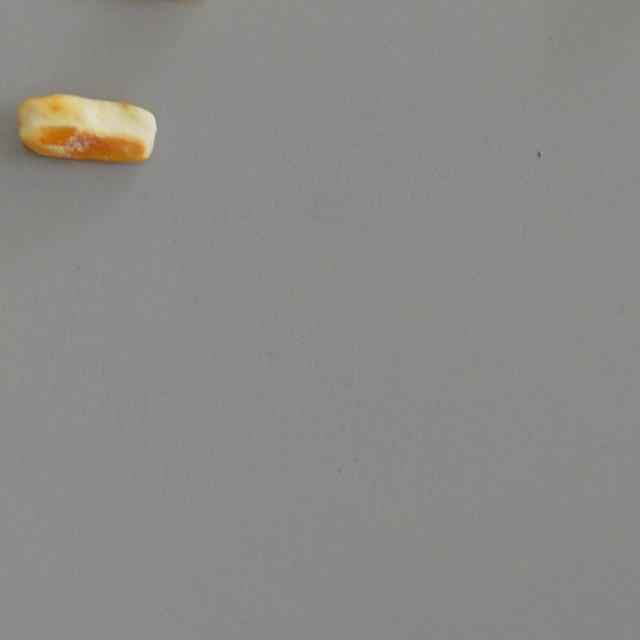dañado: (10, 84, 160, 166)
